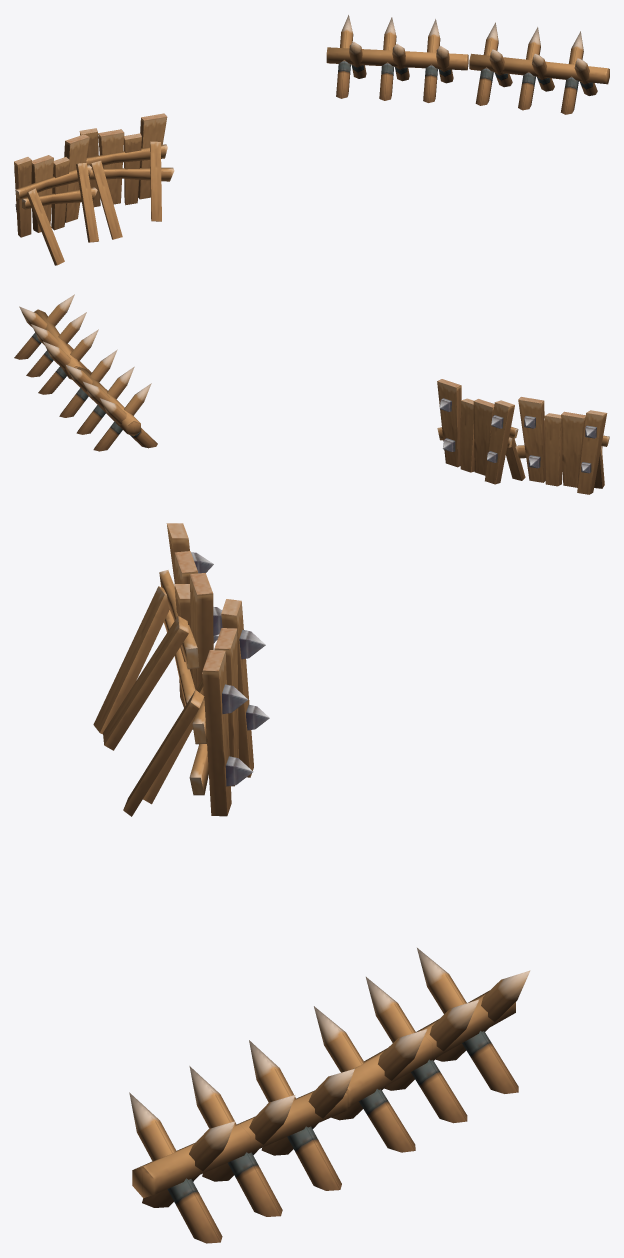
Rendered from area_11_18.fbx.
3 views of the same model, one above another, from view 1: azimuth 30°, elevation 25°; view 2: azimuth 150°, elevation 25°; view 3: azimuth 270°, elevation 25° (orthographic). The views are drawn at different scales.
Parts seen in each view (by area): view 1: area_11_18; view 2: area_11_18; view 3: area_11_18.
Part boxes in pixels (box(x1,y1,x2,y2)): area_11_18: box(14, 15, 609, 265); area_11_18: box(14, 294, 609, 494); area_11_18: box(93, 523, 530, 1243).
Bounding box in the file's own units: 25.48 × 3.99 × 8.28.
